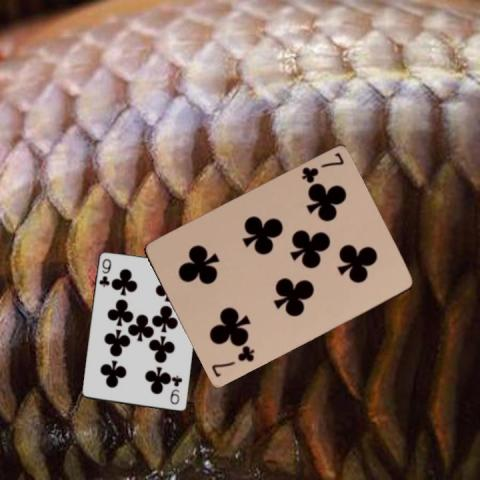7c: (209, 344, 256, 379), (298, 150, 345, 185)
9c: (96, 256, 113, 289), (169, 373, 184, 406)
